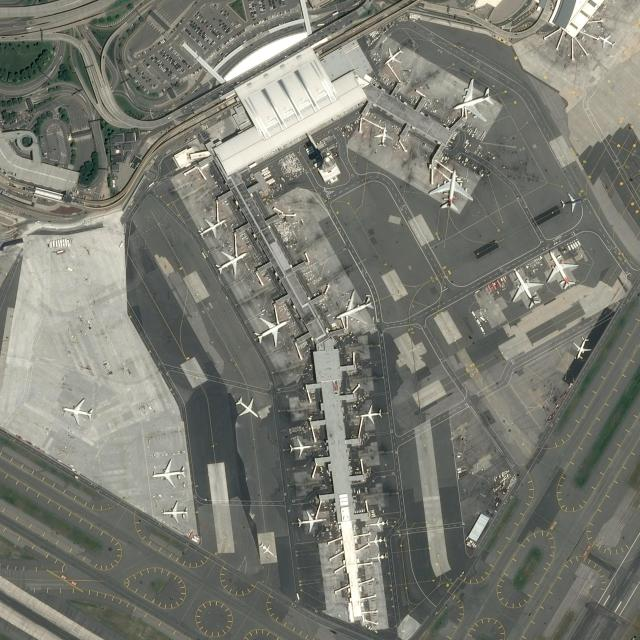aircraft: (428, 166, 474, 211), (450, 78, 494, 122), (508, 266, 544, 308), (334, 289, 374, 325), (543, 250, 578, 288), (252, 314, 288, 347), (150, 458, 186, 488), (212, 248, 248, 276), (62, 396, 94, 425), (232, 394, 260, 419), (161, 499, 189, 523), (195, 216, 225, 238), (296, 510, 324, 533), (558, 191, 582, 214), (570, 334, 592, 359), (358, 404, 383, 424), (288, 436, 312, 456), (374, 124, 392, 148), (382, 46, 403, 64), (258, 540, 276, 558), (598, 32, 616, 48), (368, 516, 388, 530), (366, 535, 385, 548), (368, 553, 388, 563)
